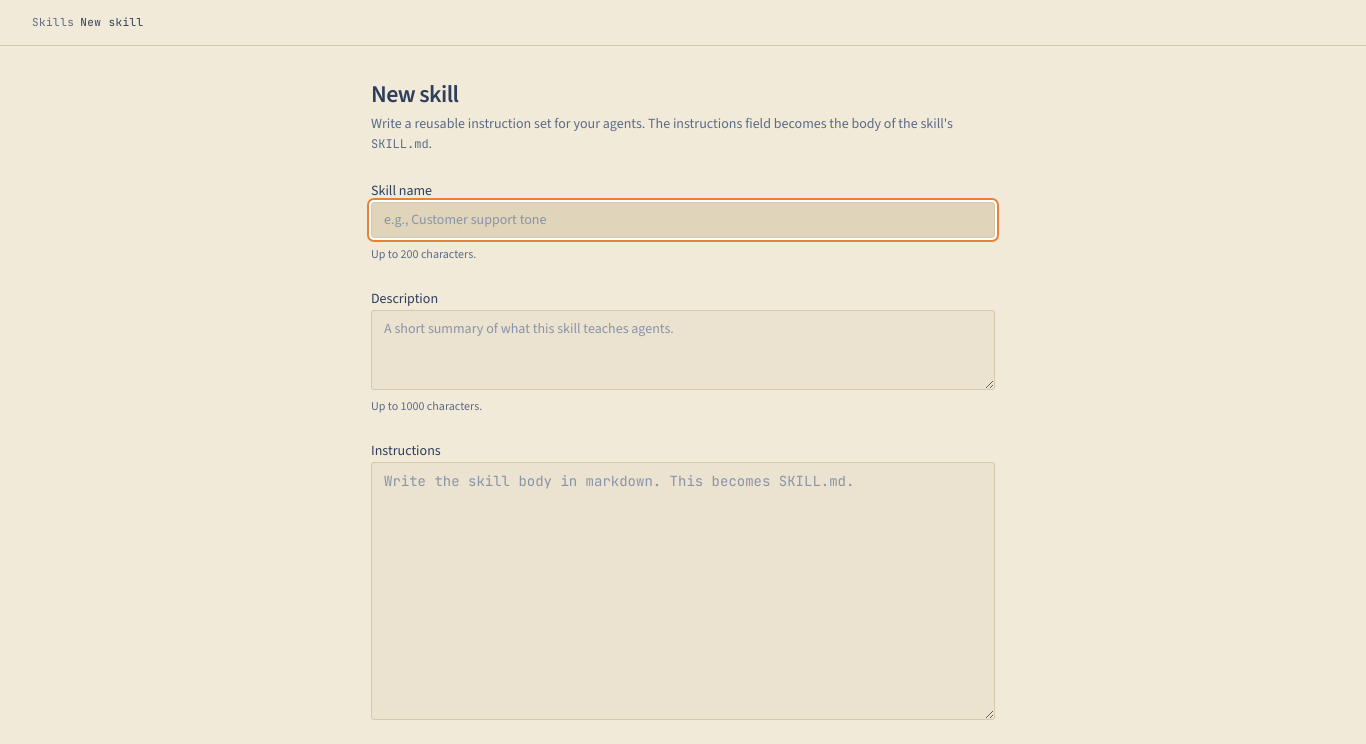
Test: NewSkillPage › shows slug_taken error message when API returns 409 slug_taken
The width and height of the screenshot is (1366, 744).
Type "Duplicate" into the field labelled "Skill name" at (683, 220), box [371, 202, 995, 238]
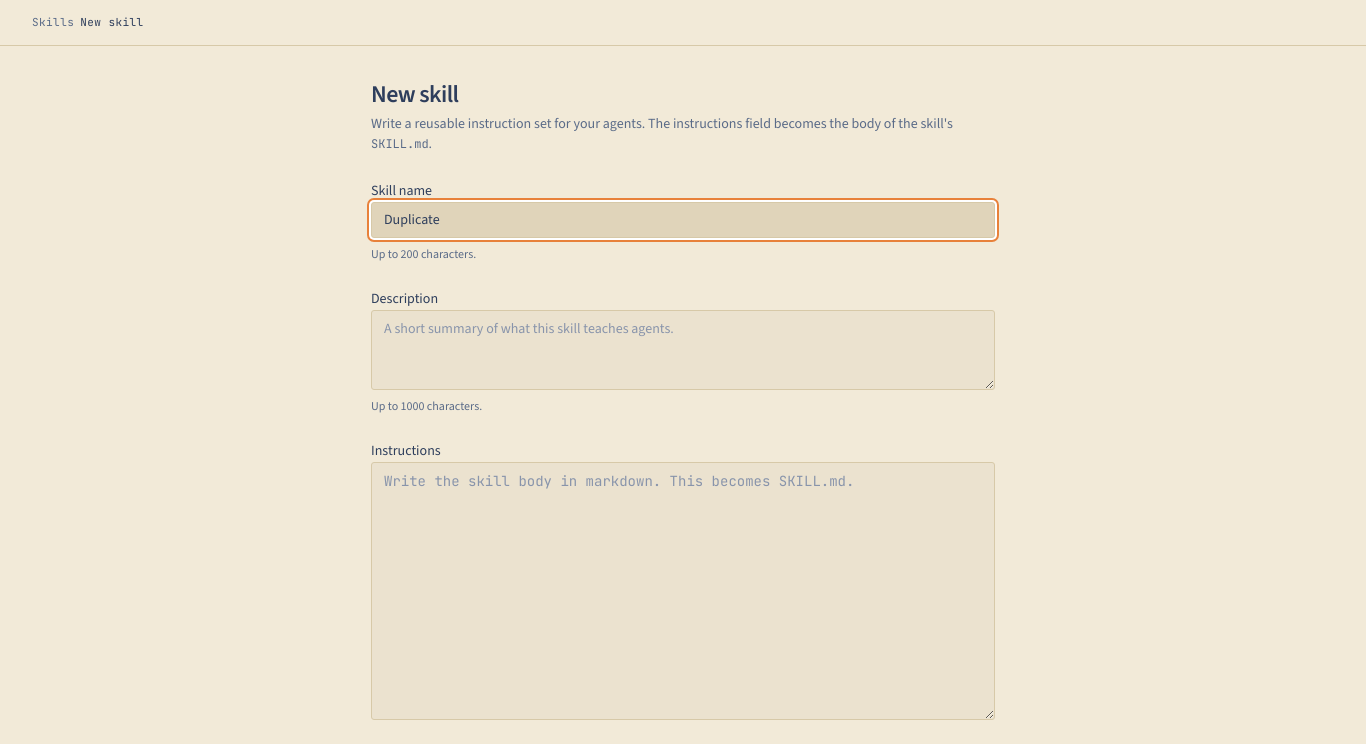
Type "A description" into the text box labelled "Description" at (683, 350), box [371, 310, 995, 390]
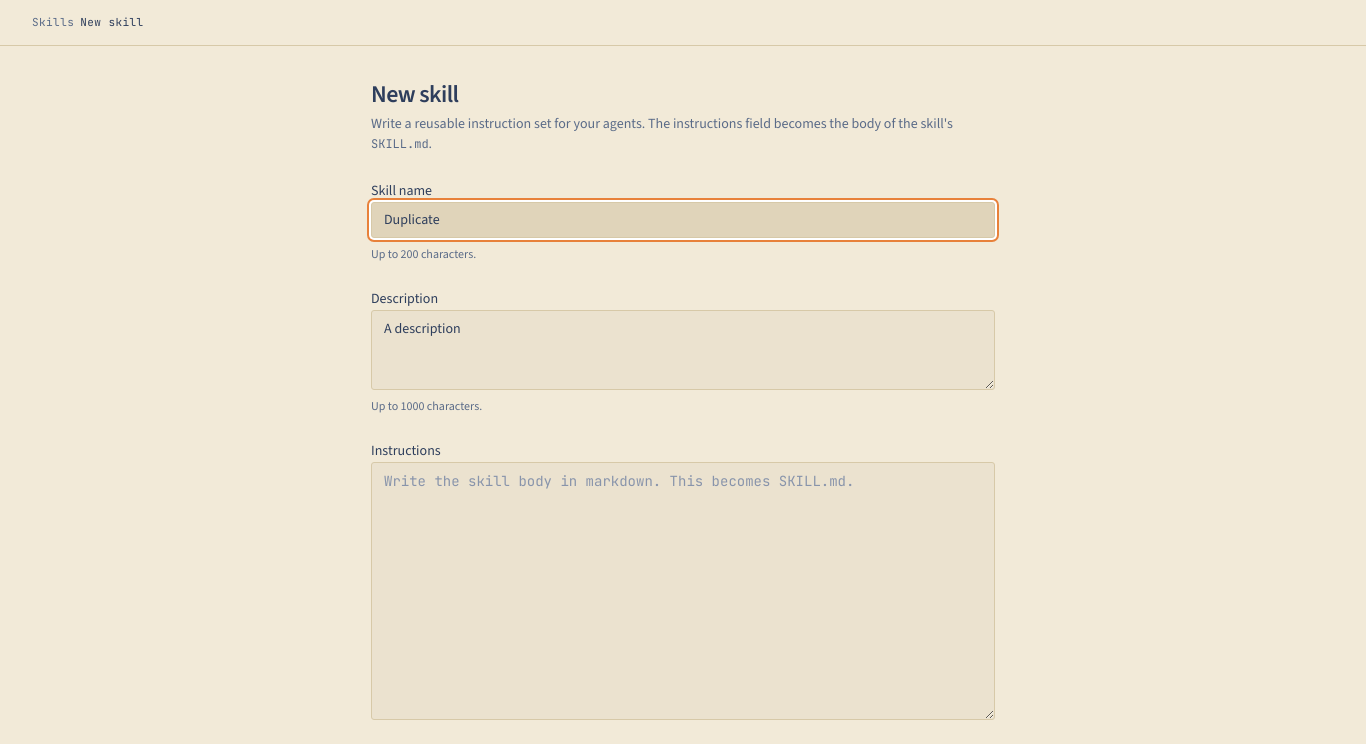
Type "Instructions here." into the text box labelled "Instructions" at (683, 590), box [371, 462, 995, 720]
(page scrolled)
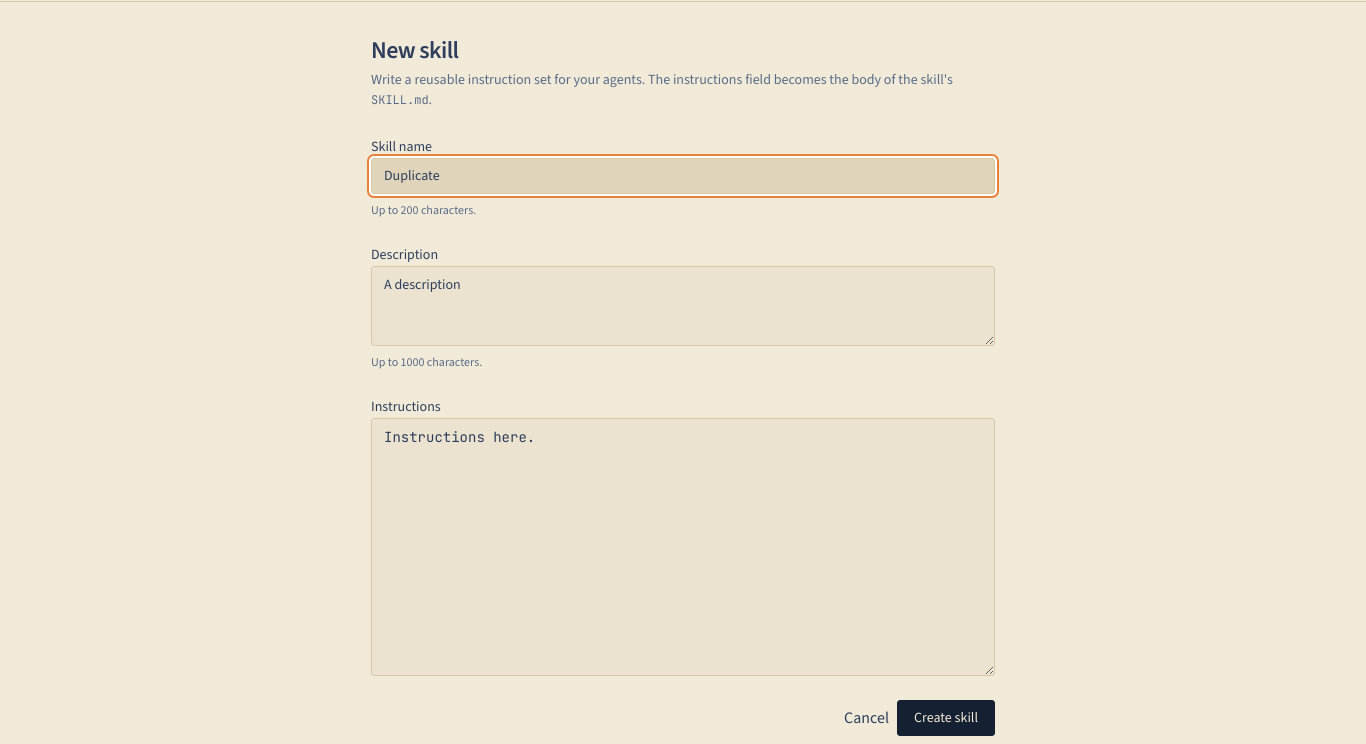
Click the button "Create skill" at (946, 718), box [897, 700, 995, 736]
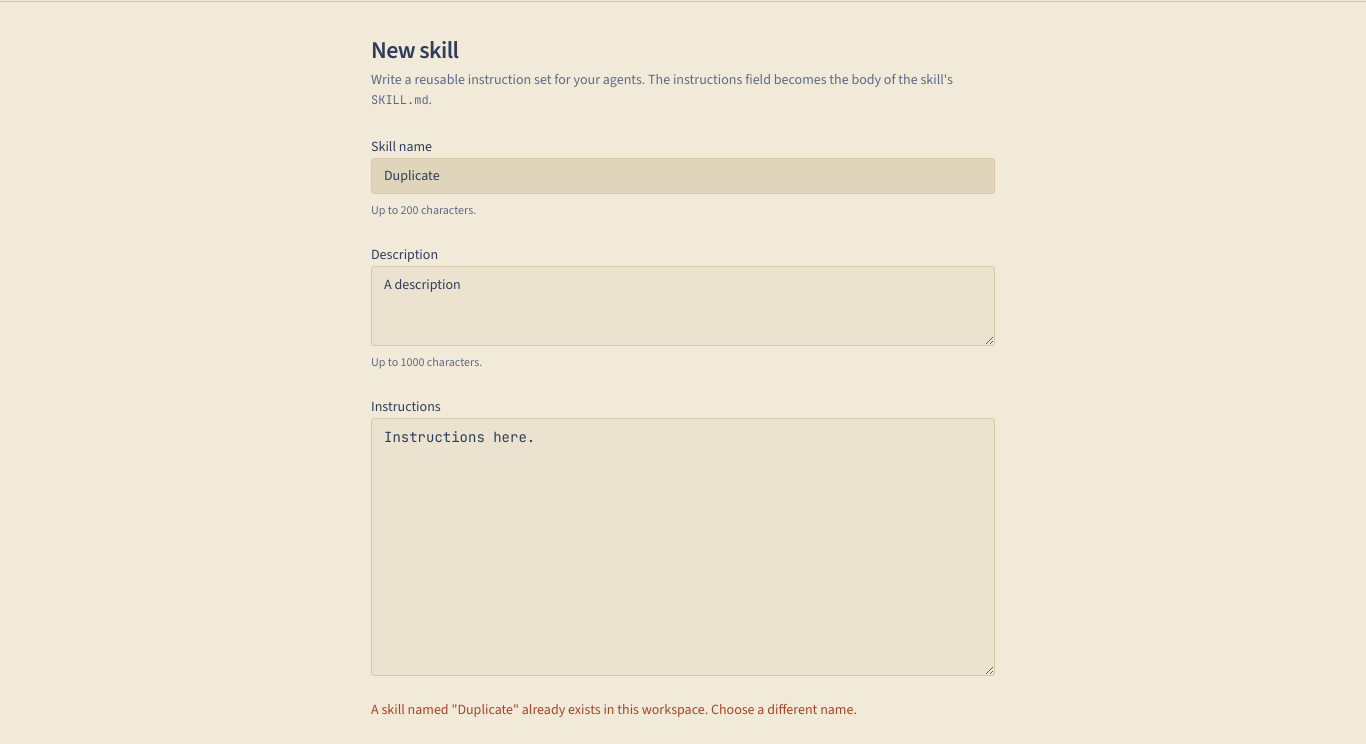
Result: the message shows "already exists in this workspace" at [371, 700, 857, 718]
